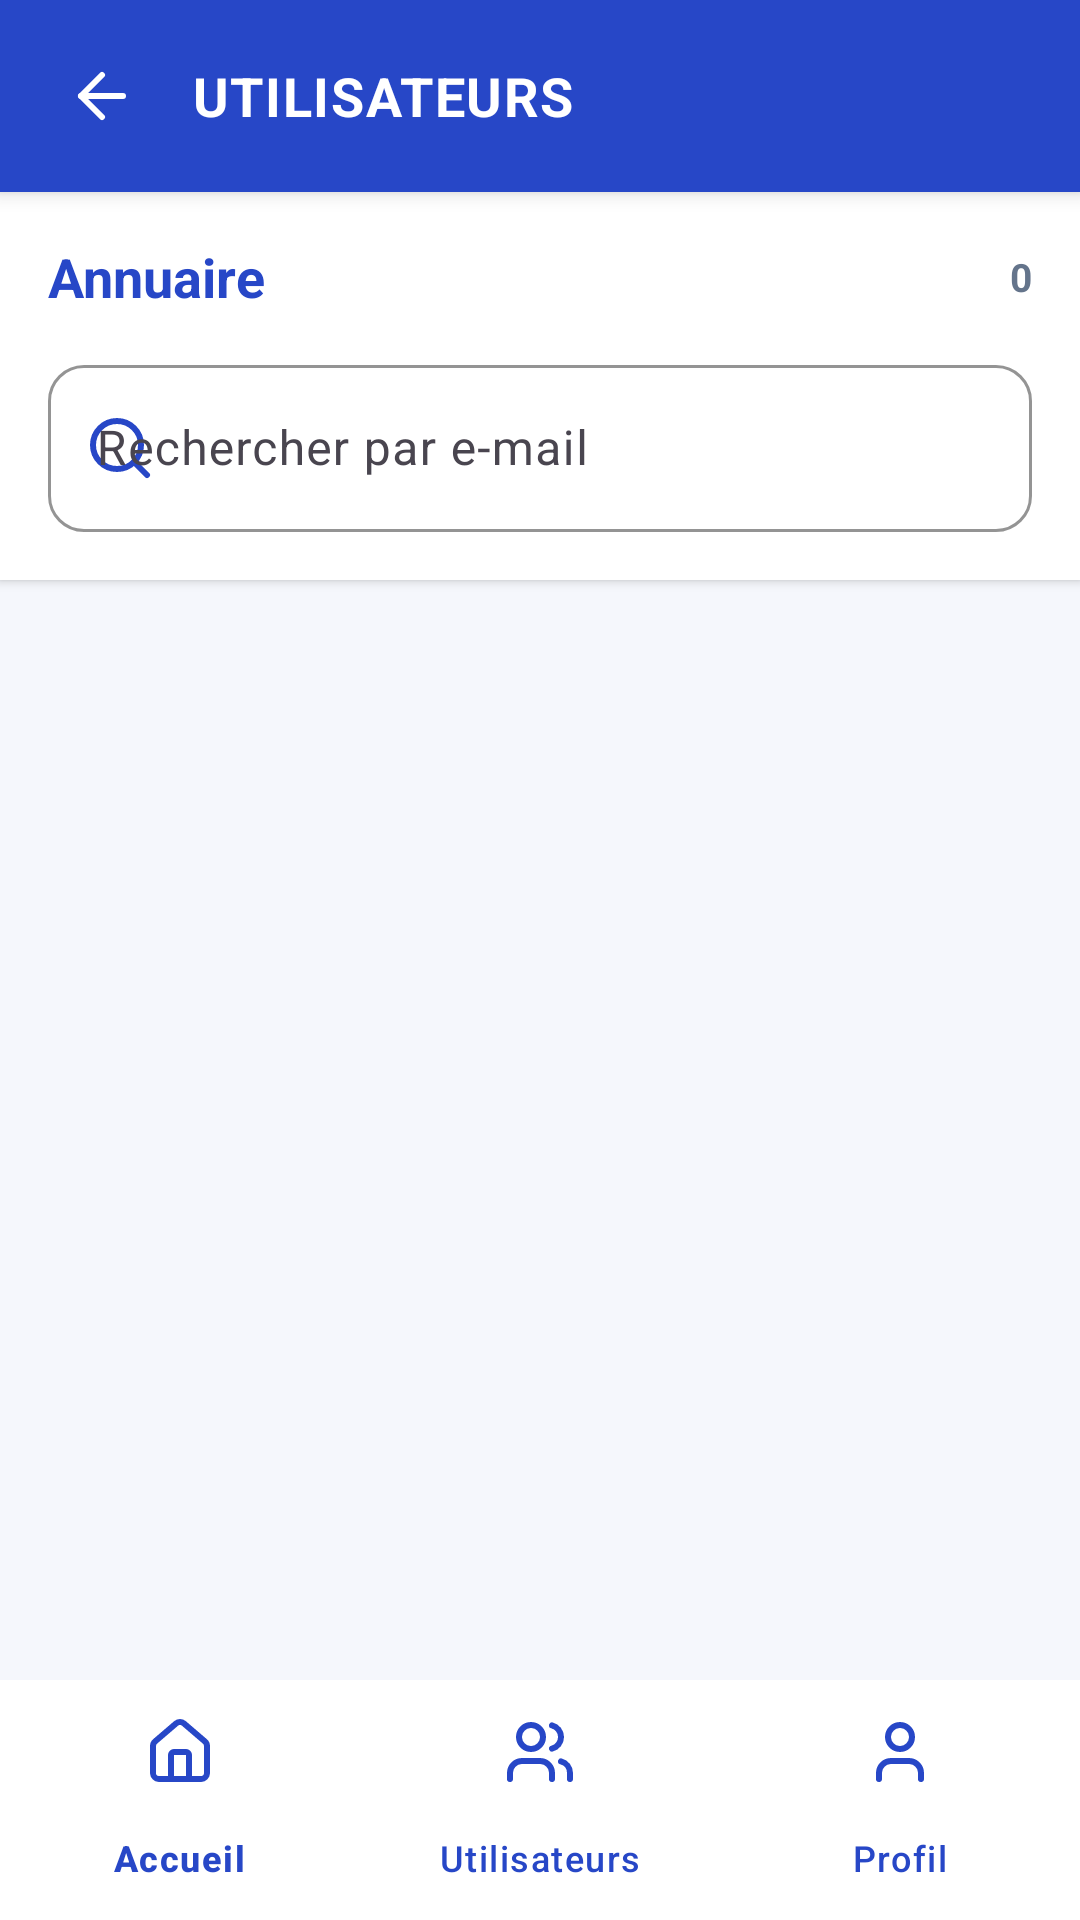

Where to tap for icons on this 1080w x 1920h app screen, as point (x, y):
Bouton retour: point (102, 96)
